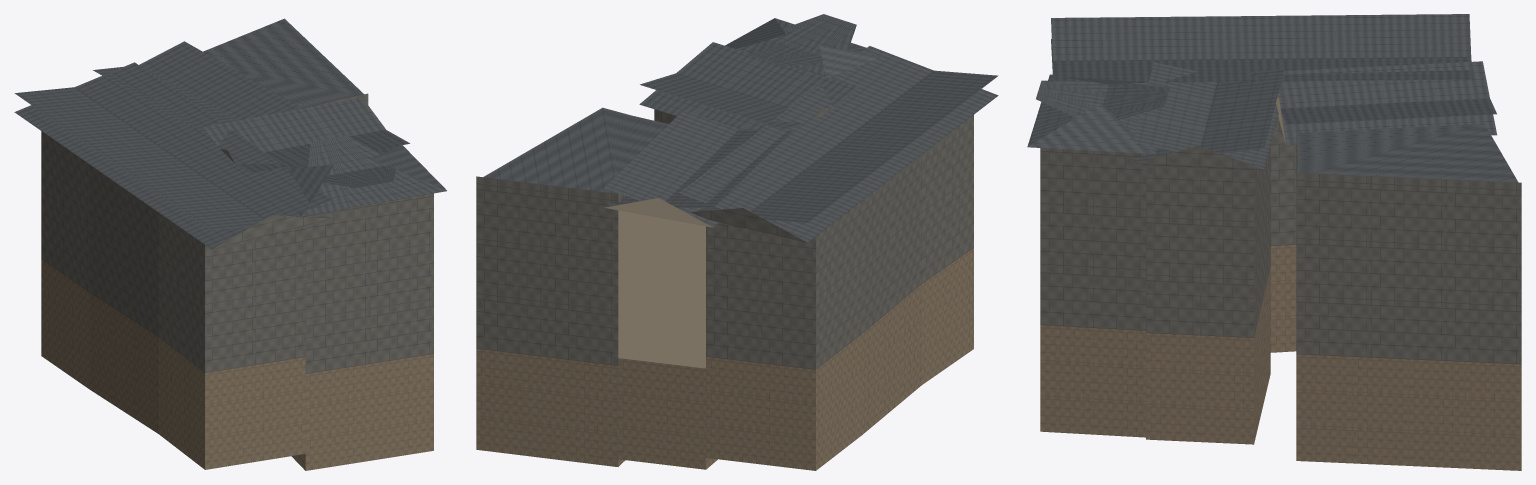
The model's file is bld_c28_-54_553.gltf.
3 views of the same model, side by side, from view 1: azimuth 30°, elevation 25°; view 2: azimuth 150°, elevation 25°; view 3: azimuth 270°, elevation 25° (orthographic). The views are drawn at different scales.
Parts seen in each view (by area): view 1: bld_c28_-54_553; view 2: bld_c28_-54_553; view 3: bld_c28_-54_553.
Part boxes in pixels (bbox=[...]): bld_c28_-54_553: bbox=[14, 18, 446, 470]; bld_c28_-54_553: bbox=[476, 14, 998, 470]; bld_c28_-54_553: bbox=[1027, 14, 1521, 470].
Size of the model in its own units: 16.2 by 14.9 by 21.43.
6 materials, 6 textured.
